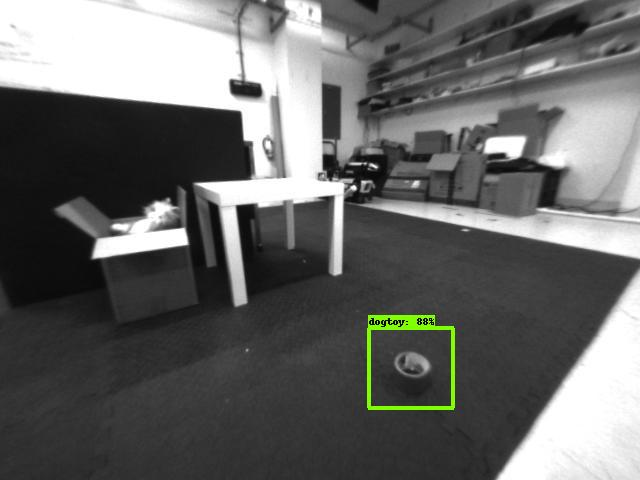dogtoy: (367, 332, 445, 400)
